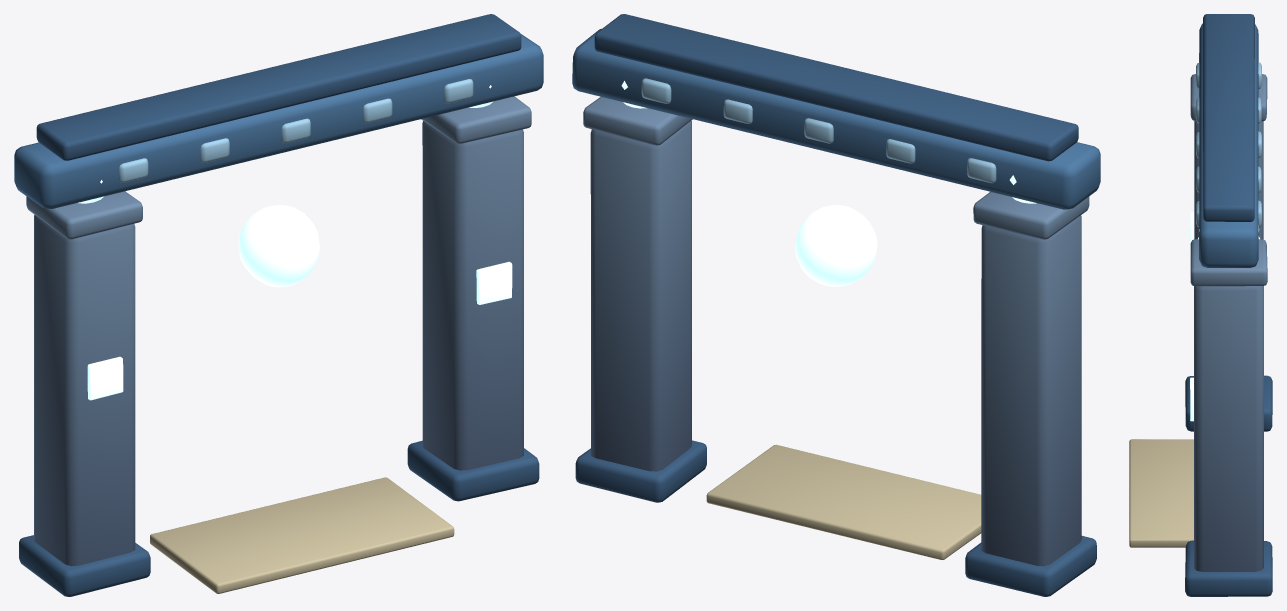
3 renders of one model, left to right at view 1: azimuth 30°, elevation 25°; view 2: azimuth 150°, elevation 25°; view 3: azimuth 270°, elevation 25°, orthographic. The views are drawn at different scales.
Parts seen in each view (by area): view 1: gate_7fbb0834; view 2: gate_7fbb0834; view 3: gate_7fbb0834.
Part boxes in pixels (bbox=[...]): gate_7fbb0834: bbox=[14, 14, 543, 596]; gate_7fbb0834: bbox=[572, 14, 1100, 596]; gate_7fbb0834: bbox=[1129, 14, 1272, 596].
Bounding box in the file's own units: 5.08 × 4.31 × 1.44.
